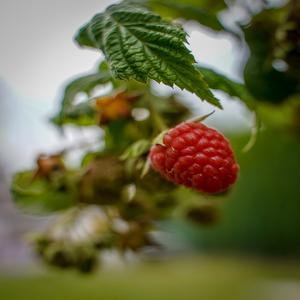raspb: (148, 114, 245, 201)
